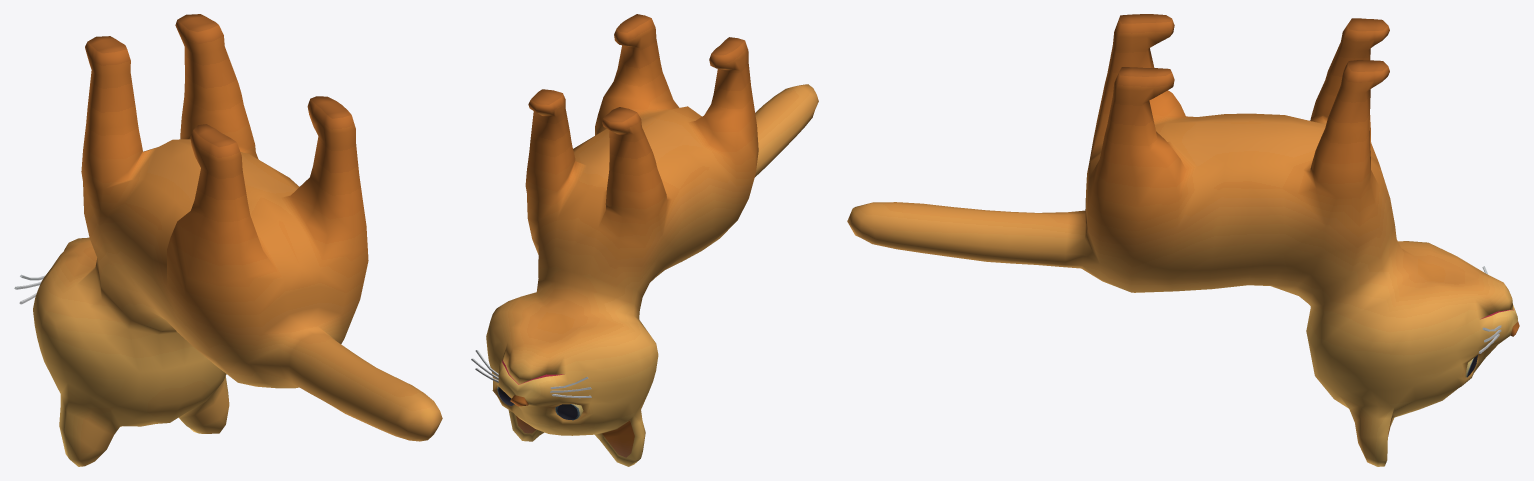
Rendered from toon-cat-free-b2bd1e.glb.
3 views of the same model, side by side, from view 1: azimuth 30°, elevation 25°; view 2: azimuth 150°, elevation 25°; view 3: azimuth 270°, elevation 25° (orthographic). The views are drawn at different scales.
Parts seen in each view (by area): view 1: PropMesh; view 2: PropMesh; view 3: PropMesh.
Part boxes in pixels (left/top/right/bottom): PropMesh: left=14, top=14, right=442, bottom=466; PropMesh: left=471, top=14, right=818, bottom=466; PropMesh: left=847, top=14, right=1519, bottom=466.
Bounding box in the file's own units: 0.218 × 0.45 × 0.7.
Materials: 1 (1 with a texture image).
